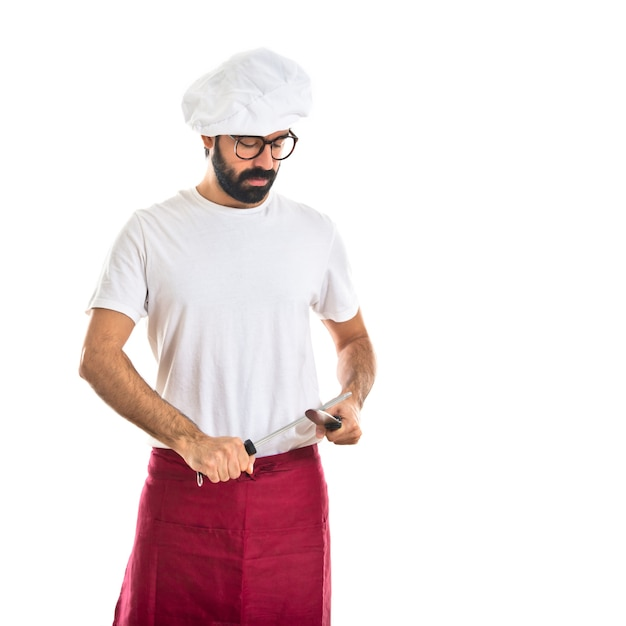knife: (303, 406, 343, 430)
